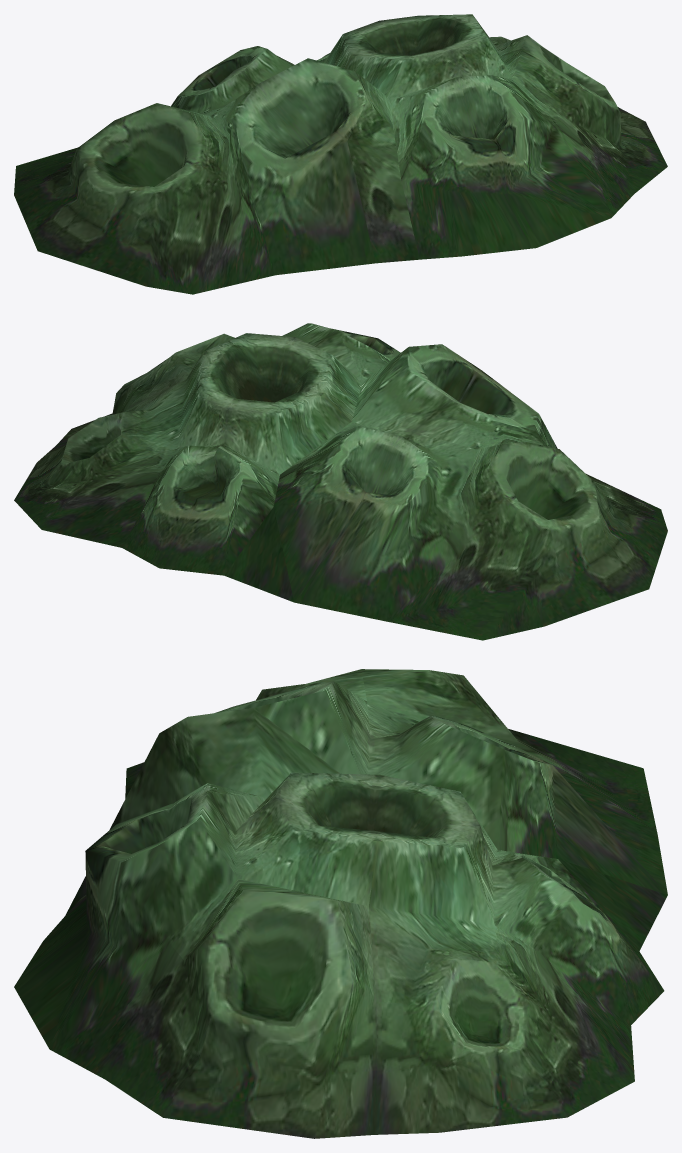
File: Battle01_Hole_01.FBX
3 renders of one model, top to bottom at view 1: azimuth 30°, elevation 25°; view 2: azimuth 150°, elevation 25°; view 3: azimuth 270°, elevation 25°, orthographic. The views are drawn at different scales.
Visible parts, largest first — view 1: Battle01_Hole_01; view 2: Battle01_Hole_01; view 3: Battle01_Hole_01.
Boxes of the visible parts, box(x1,y1,x2,y2) form: Battle01_Hole_01: box(14, 14, 667, 294); Battle01_Hole_01: box(14, 323, 667, 640); Battle01_Hole_01: box(14, 669, 667, 1138).
Bounding box in the file's own units: 5.41 × 1.25 × 3.55.
